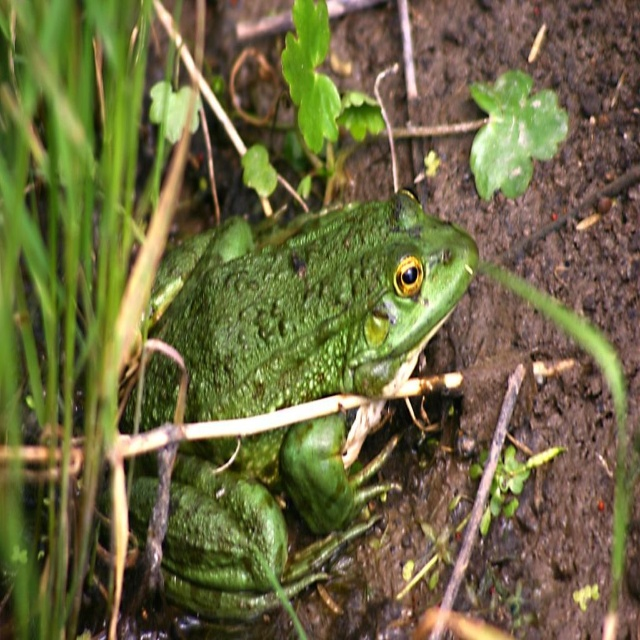Frog: (124, 186, 480, 626)
